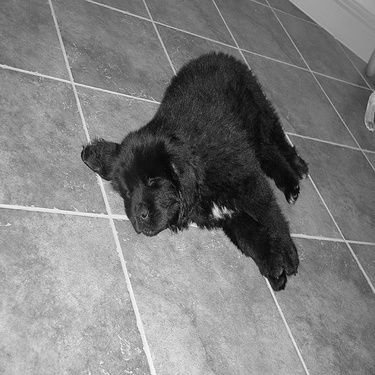dog: (69, 44, 315, 294)
